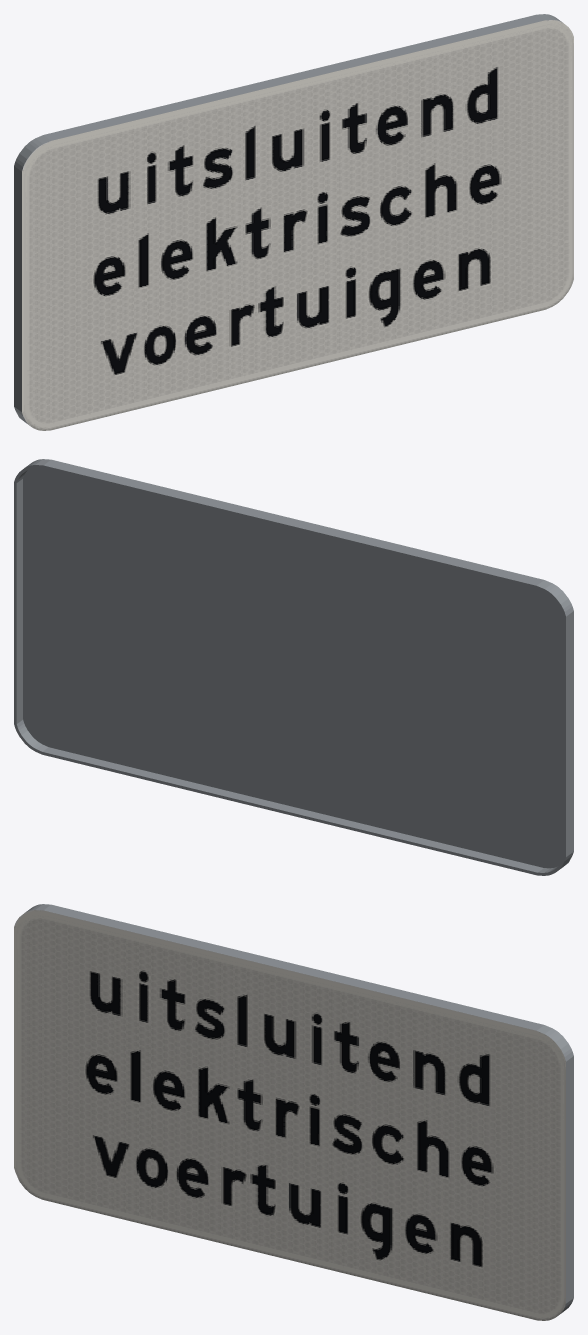
3 renders of one model, top to bottom at view 1: azimuth 30°, elevation 25°; view 2: azimuth 150°, elevation 25°; view 3: azimuth 330°, elevation 25°, orthographic.
Parts seen in each view (by area): view 1: cat_5deaf0d3cf2cf587; view 2: cat_5deaf0d3cf2cf587; view 3: cat_5deaf0d3cf2cf587.
Boxes of the visible parts, left/top/right/bottom form: cat_5deaf0d3cf2cf587: left=14, top=14, right=573, bottom=430; cat_5deaf0d3cf2cf587: left=14, top=459, right=573, bottom=875; cat_5deaf0d3cf2cf587: left=14, top=904, right=573, bottom=1320.
Size of the model in its own units: 0.6 by 0.015 by 0.3007.
Materials: 2 (1 with a texture image).
